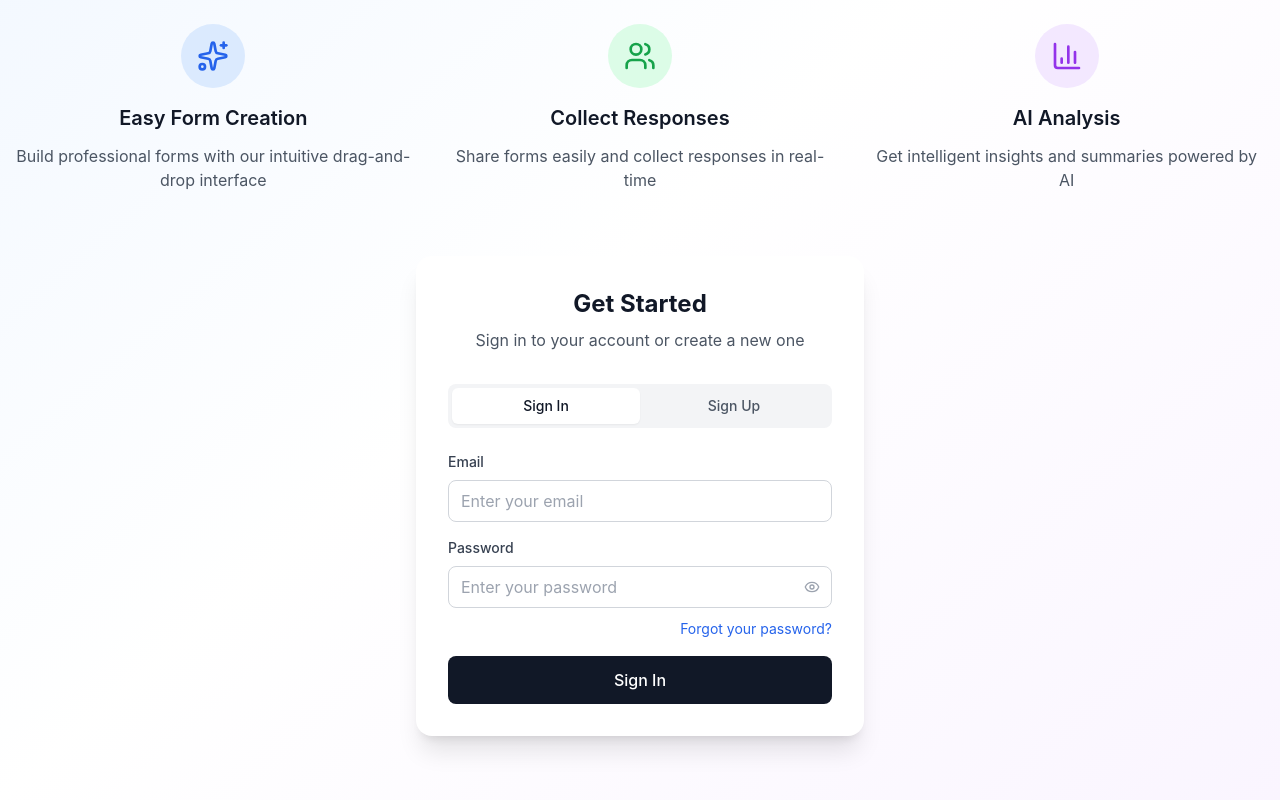
it: LandingPage login errors › shows the API error after a failed sign in
(page scrolled)
Expected: the button "Sign Up" is shown, [640, 388, 828, 424]
In the field labelled "Email": (640, 501) [448, 480, 832, 522], type "nobody@example.com"
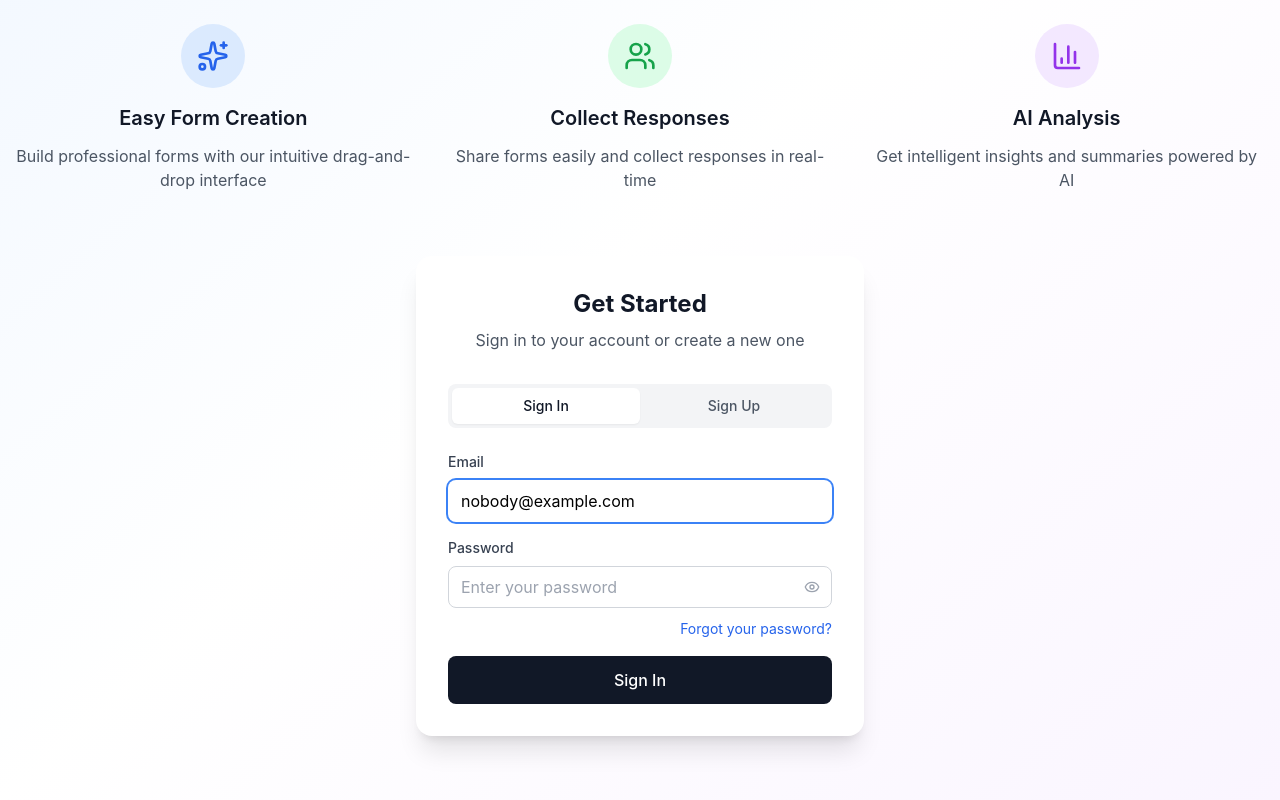
In the password field labelled "Password": (640, 587) [448, 566, 832, 608], type "WrongPass1!"
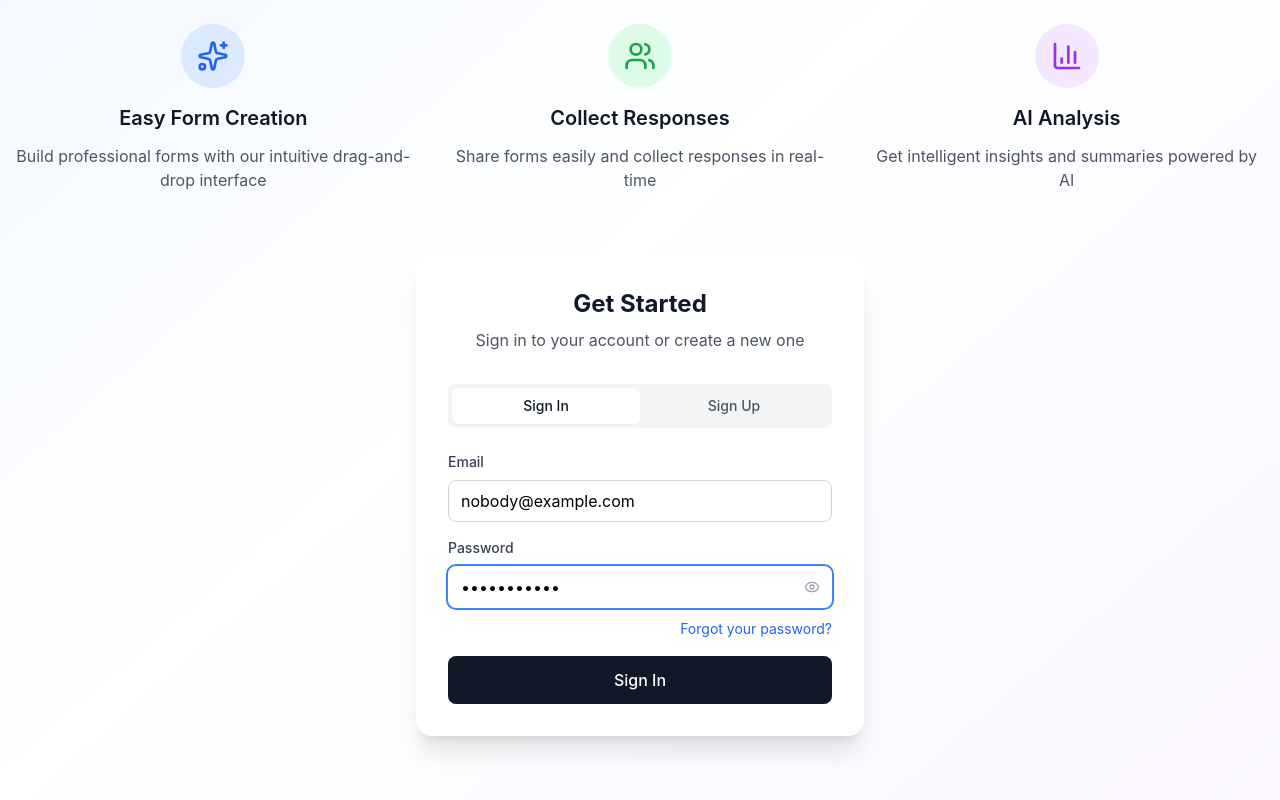
Click the submit button: click(640, 680) [448, 656, 832, 704]
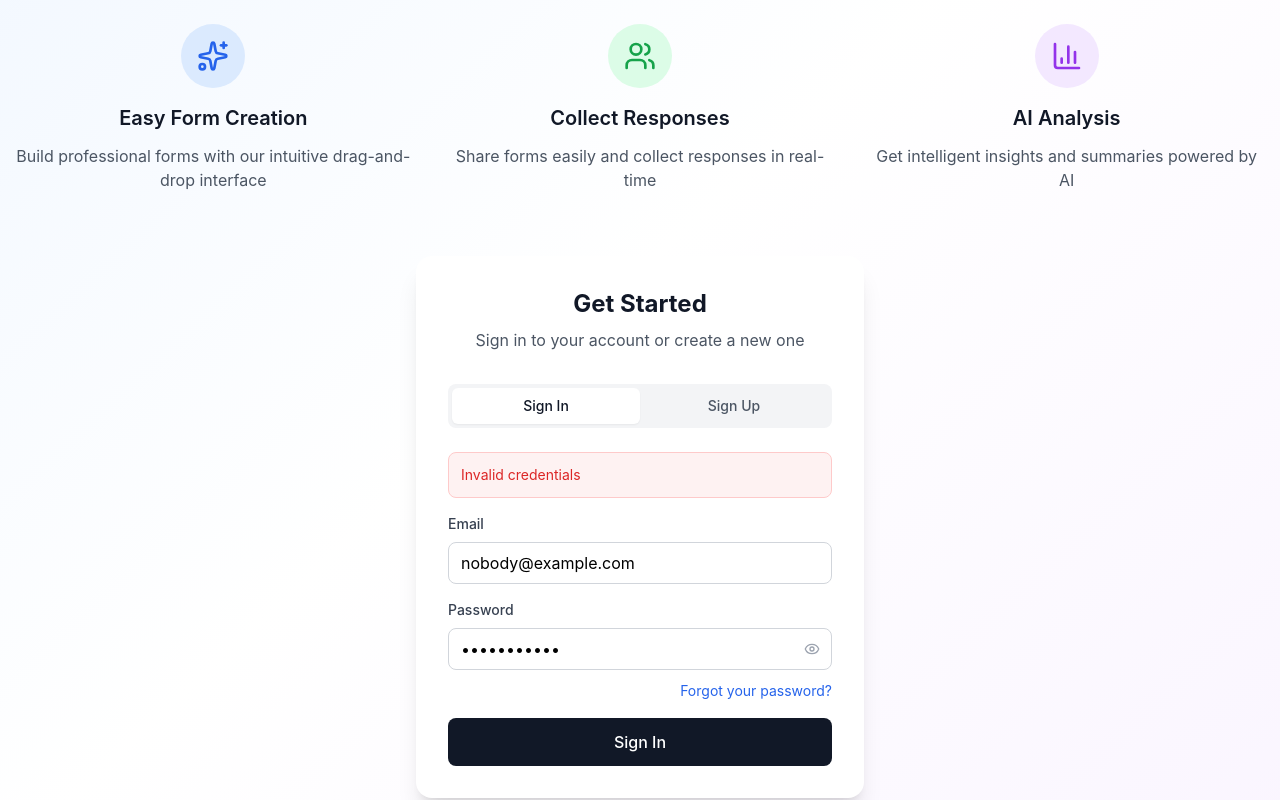
Expected: the text "Invalid credentials" is shown, [461, 466, 581, 483]
